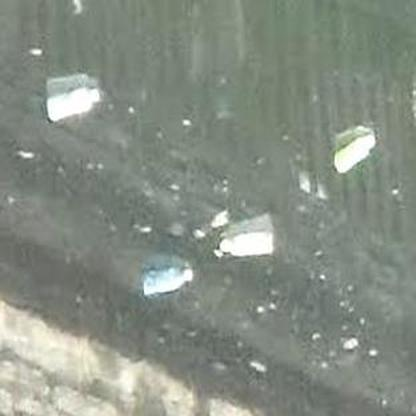plastic bottle: (45, 87, 101, 122), (335, 133, 376, 173), (144, 268, 192, 295)
